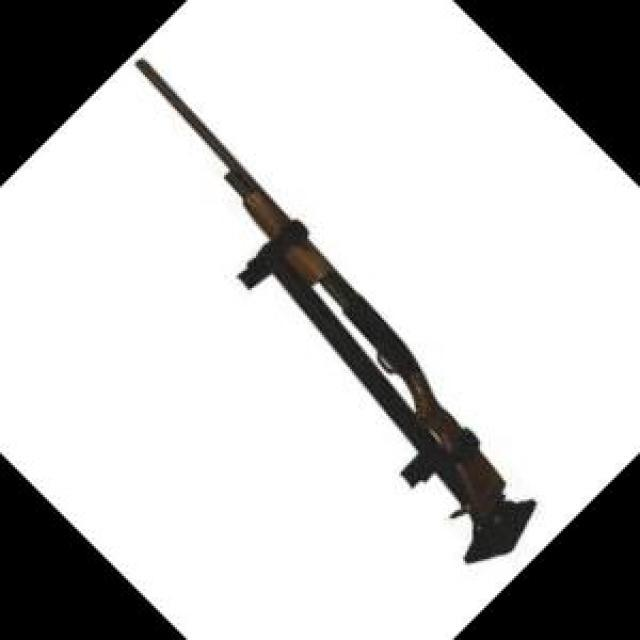weapon: (134, 58, 508, 521)
